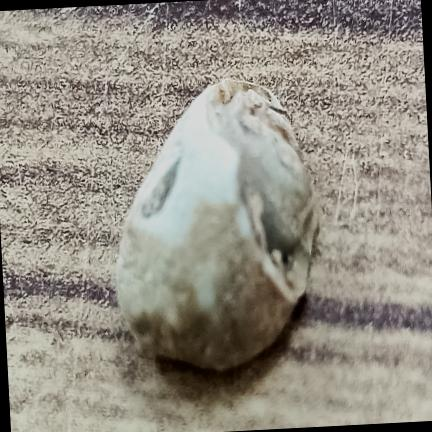broken: (116, 79, 318, 370)
